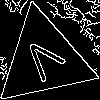V: (18, 34, 73, 91)
